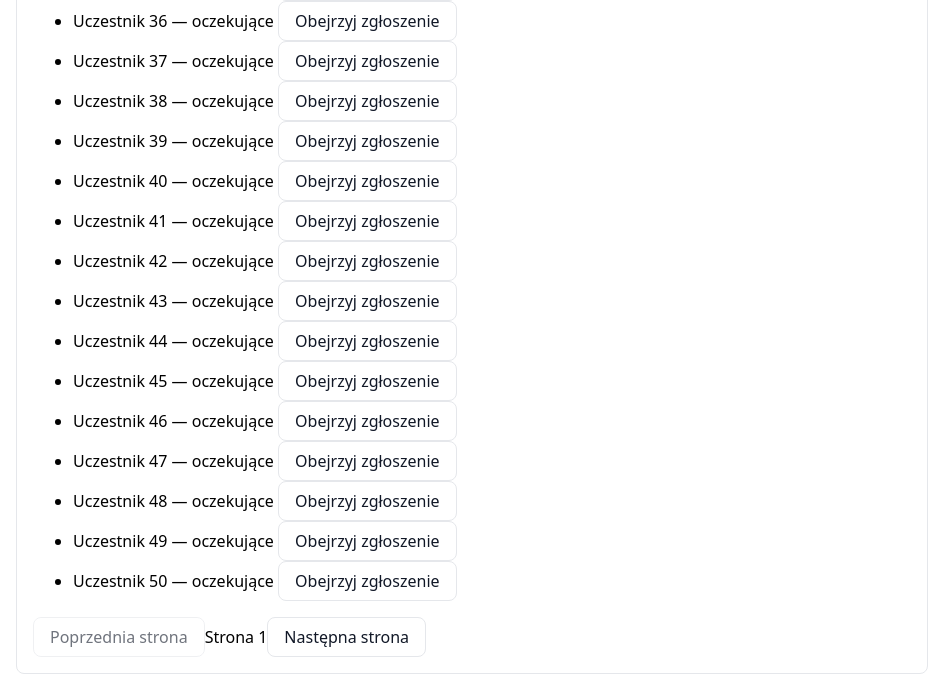
ManageRegistrationsPage › loads registrations page by page
The width and height of the screenshot is (945, 691).
(page scrolled)
Expected: the text "Uczestnik 51 —" is not shown
What coordinates should you click on to do the following:
click the button "Następna strona"
I would click on:
 (347, 637)
Its box is top-left (267, 617), bottom-right (426, 657).
(page scrolled)
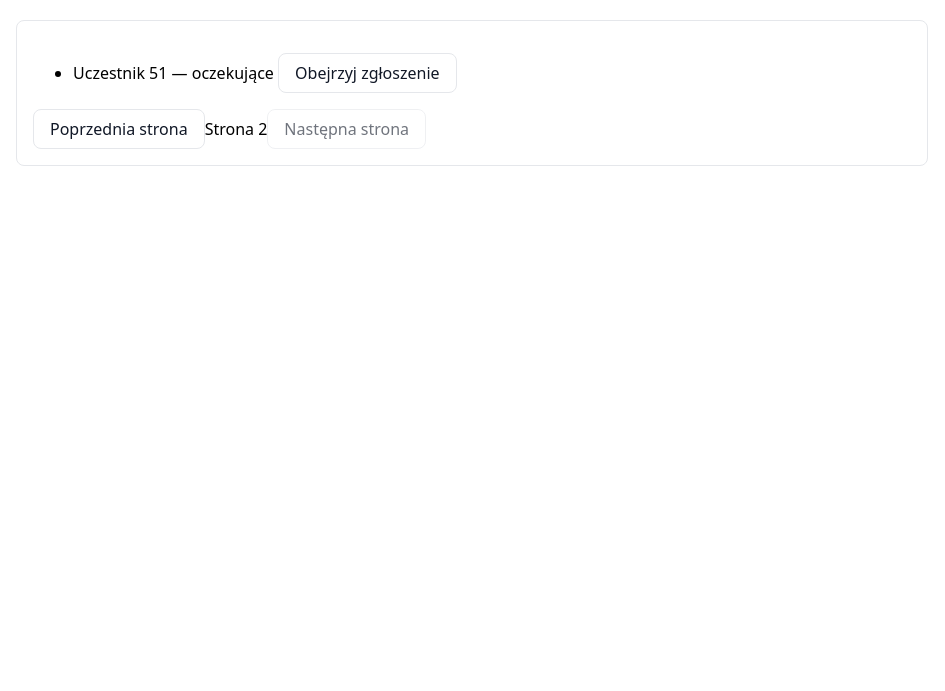
Now the list item "Uczestnik 51 — oczekujące Obejrzyj zgłoszenie" is shown, box top-left (73, 53), bottom-right (456, 93)
Now the text "Strona 2" is shown, box top-left (205, 118), bottom-right (267, 140)
Now the button "Następna strona" is disabled, box top-left (267, 109), bottom-right (426, 149)
